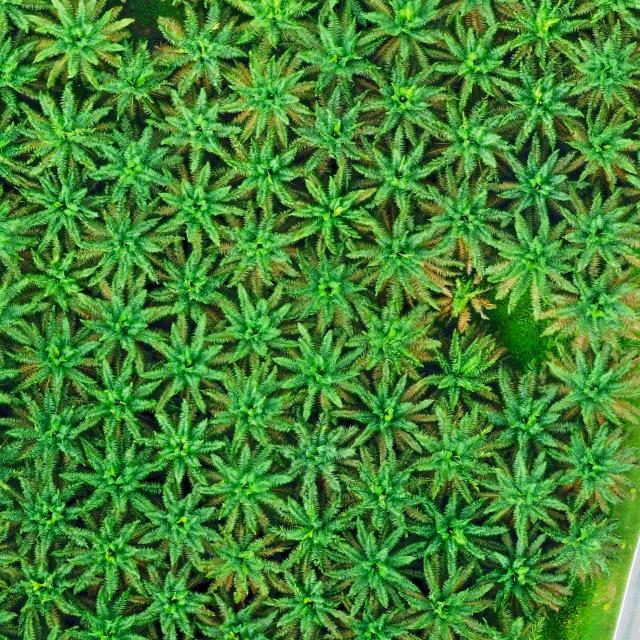Tree: (350, 201, 468, 317), (274, 4, 392, 118), (186, 349, 296, 462), (264, 474, 374, 584), (477, 219, 599, 316), (341, 283, 447, 393), (270, 406, 364, 528), (278, 237, 387, 342), (211, 45, 317, 150), (411, 90, 522, 189), (406, 160, 521, 255), (68, 272, 178, 371), (327, 367, 438, 465), (121, 476, 231, 574), (143, 156, 244, 262), (137, 315, 240, 417), (76, 117, 182, 216), (486, 54, 592, 152), (402, 483, 508, 580), (16, 79, 119, 178), (406, 327, 506, 428), (23, 0, 135, 90), (3, 304, 98, 409), (50, 515, 163, 603), (486, 142, 585, 242), (324, 517, 423, 617), (154, 0, 254, 99), (398, 411, 504, 504), (192, 444, 294, 540), (419, 17, 522, 112), (348, 131, 448, 227), (271, 324, 366, 425), (218, 199, 312, 301), (206, 280, 306, 375), (74, 204, 175, 297), (538, 341, 640, 432), (334, 441, 435, 532), (59, 432, 161, 522), (538, 267, 640, 357), (86, 28, 177, 128), (473, 526, 568, 620), (154, 76, 244, 175), (0, 466, 91, 563), (551, 184, 640, 282), (475, 378, 573, 467), (0, 388, 103, 472), (13, 167, 107, 259), (400, 550, 496, 640), (210, 129, 310, 214), (547, 421, 638, 513), (141, 234, 232, 326), (281, 170, 374, 260), (357, 59, 454, 144), (551, 21, 640, 112), (71, 358, 159, 450), (473, 449, 568, 534), (4, 533, 81, 636), (291, 95, 379, 182), (539, 500, 626, 588), (200, 521, 292, 604), (135, 407, 228, 488), (558, 105, 640, 193), (5, 242, 99, 318), (128, 558, 217, 636), (354, 0, 447, 69), (262, 567, 349, 640), (429, 272, 502, 334)
